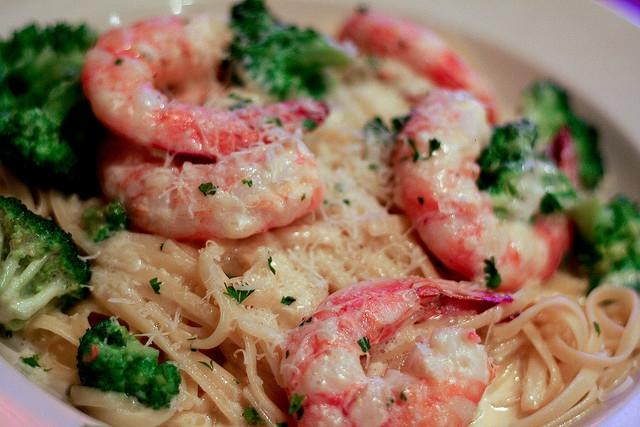broccoli: (0, 195, 94, 332), (2, 81, 106, 202), (76, 316, 182, 410), (226, 25, 354, 102), (563, 194, 639, 295), (0, 52, 86, 126), (519, 77, 572, 156), (566, 112, 604, 192), (82, 200, 132, 244)
